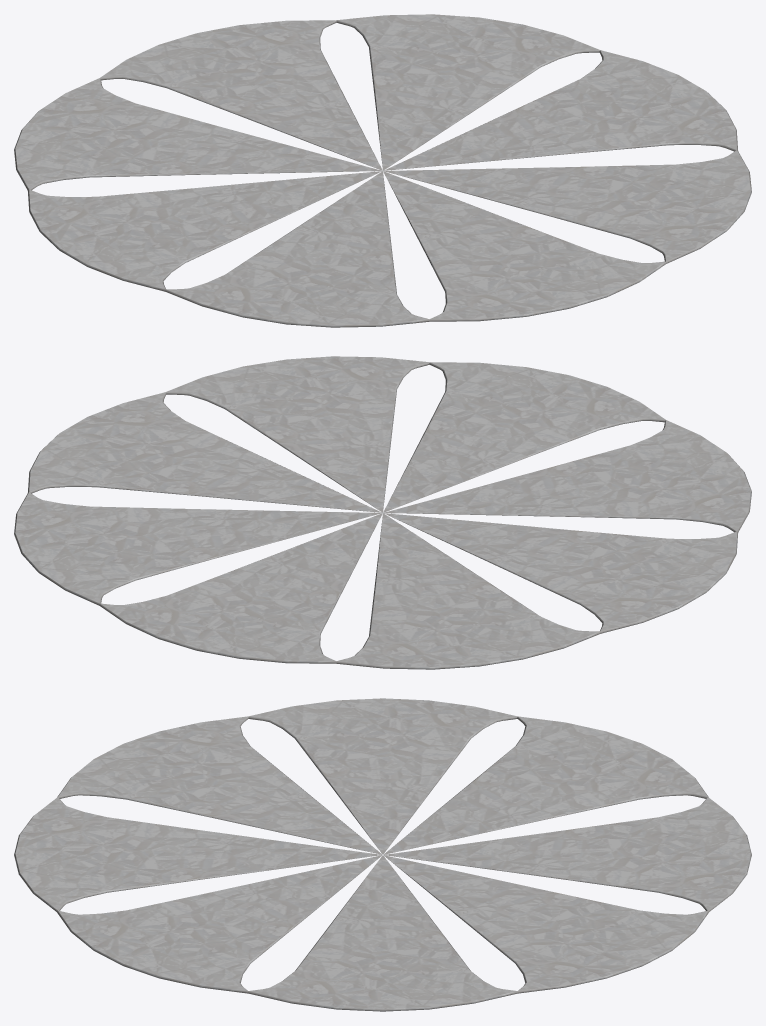
Rendered from Hamal_Reflector_1_Reflector.obj.
3 renders of one model, top to bottom at view 1: azimuth 30°, elevation 25°; view 2: azimuth 150°, elevation 25°; view 3: azimuth 270°, elevation 25°, orthographic.
Visible parts, largest first — view 1: Hamal_Reflector_1_Reflector; view 2: Hamal_Reflector_1_Reflector; view 3: Hamal_Reflector_1_Reflector.
Boxes of the visible parts, box(x1,y1,x2,y2) form: Hamal_Reflector_1_Reflector: box(14, 14, 751, 327); Hamal_Reflector_1_Reflector: box(14, 356, 751, 669); Hamal_Reflector_1_Reflector: box(14, 698, 751, 1011).
Size of the model in its own units: 13.11 by 0.05 by 13.11.
